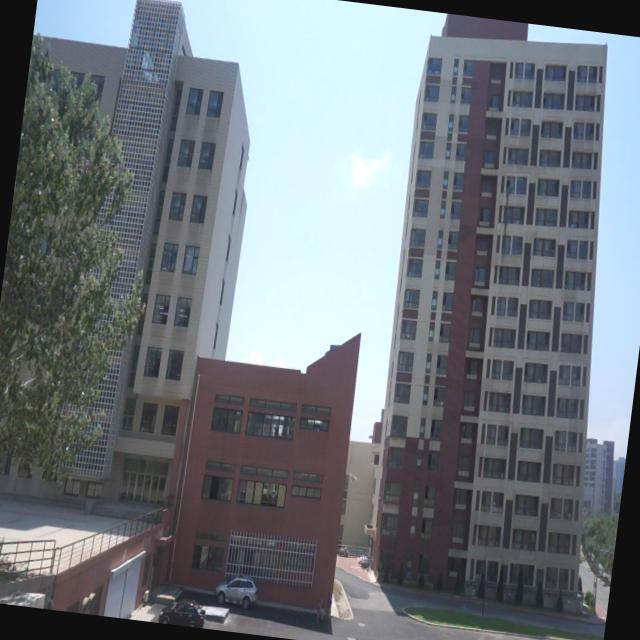drone: (344, 467, 360, 488)
